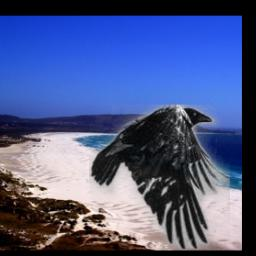Crow: (89, 106, 230, 250)
